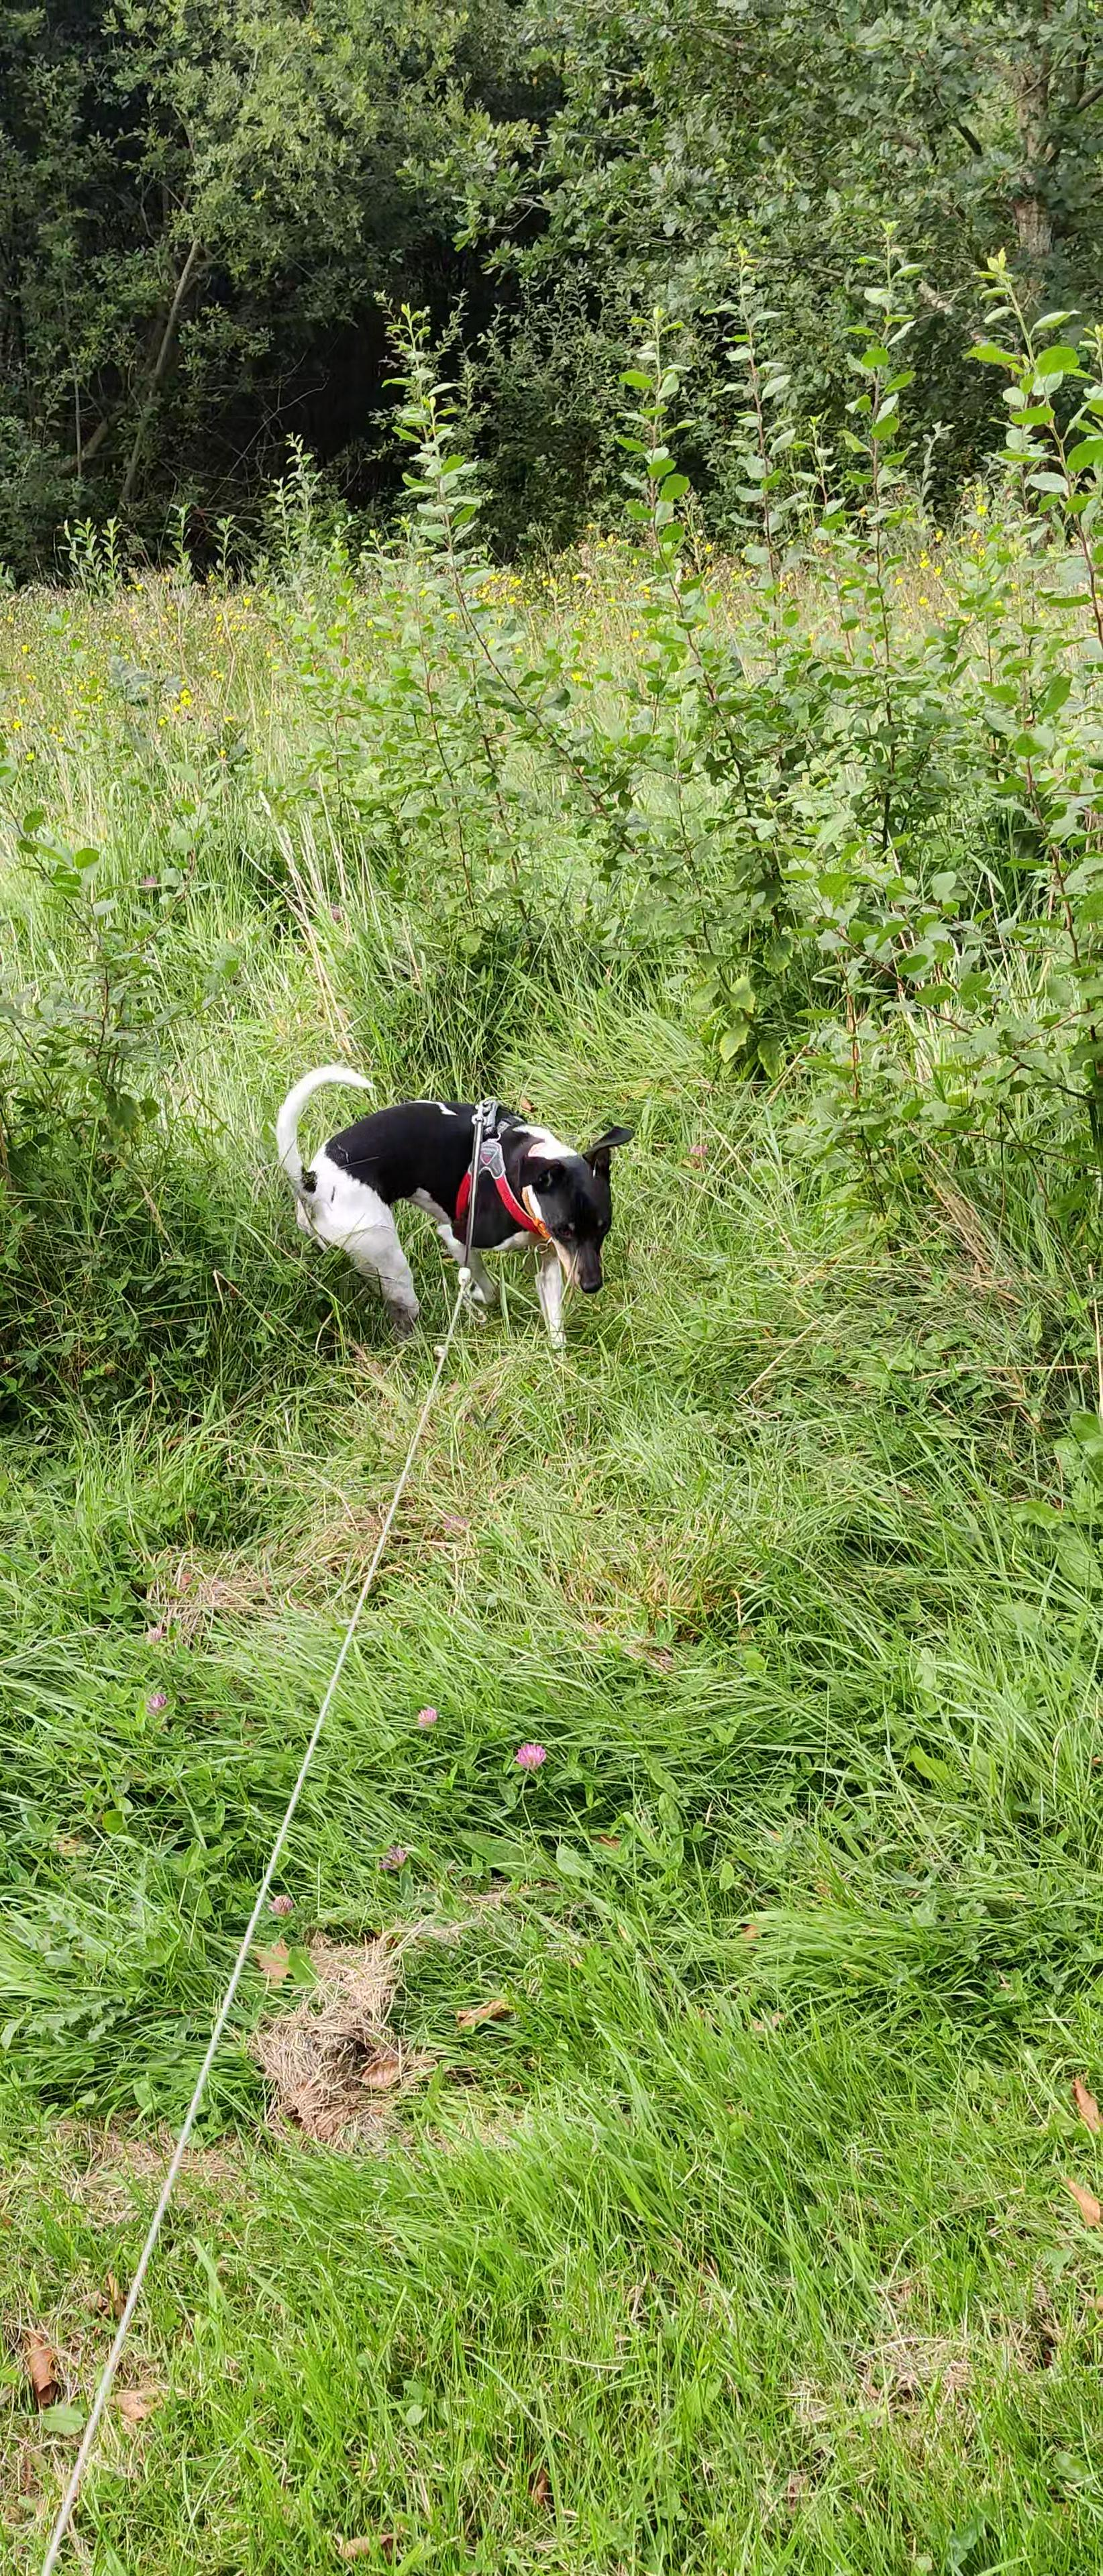Dog: (268, 1058, 641, 1364)
